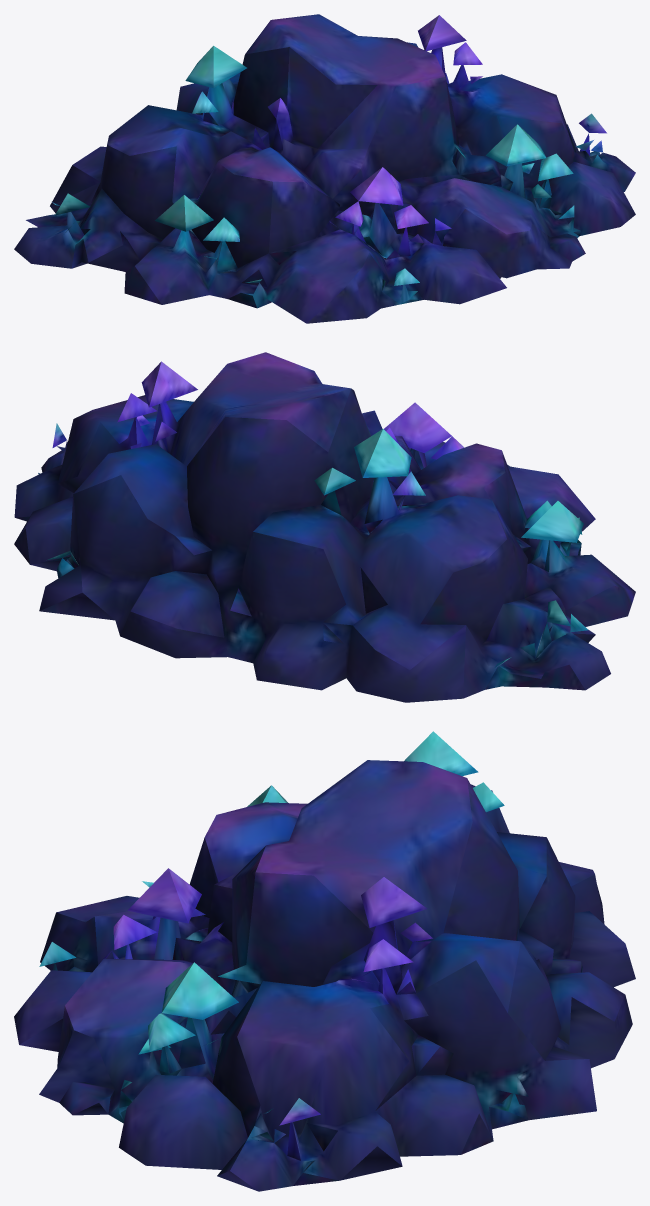
File: d_mycelium_pied.glb
The picture shows the model from 3 angles, top to bottom: view 1: azimuth 30°, elevation 25°; view 2: azimuth 150°, elevation 25°; view 3: azimuth 270°, elevation 25°; orthographic projection. The views are drawn at different scales.
Visible parts, largest first — view 1: geometry_0; view 2: geometry_0; view 3: geometry_0.
Boxes of the visible parts, x1=… form: geometry_0: x1=14, y1=14, x2=635, y2=323; geometry_0: x1=14, y1=352, x2=635, y2=702; geometry_0: x1=14, y1=731, x2=635, y2=1191.
Size of the model in its own units: 0.9991 by 0.3143 by 0.7325.
1 material, 1 textured.
